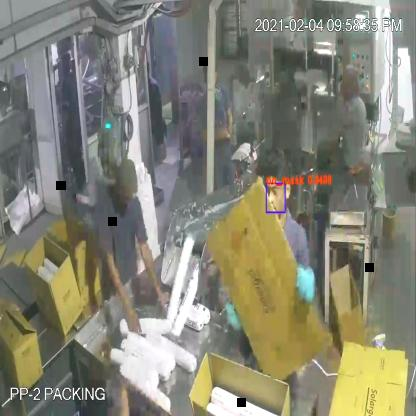glove: (291, 251, 320, 314)
no_glove: (95, 232, 144, 348), (134, 221, 172, 318), (198, 108, 231, 150), (218, 94, 233, 135)
